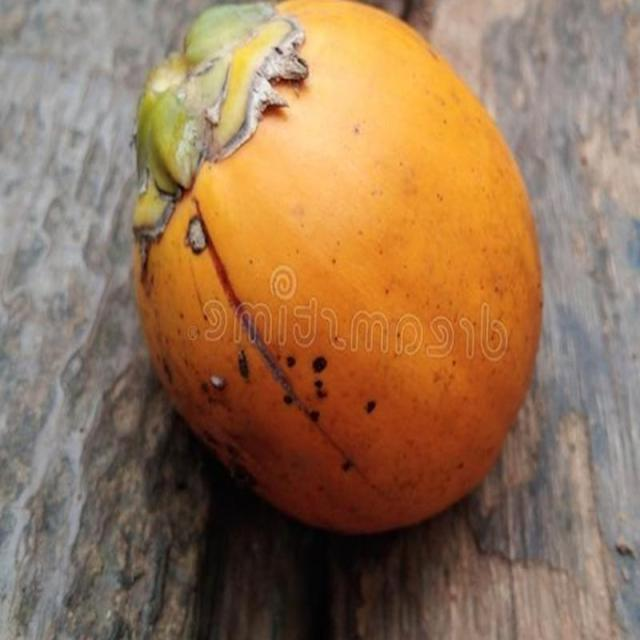good: (130, 0, 544, 540)
